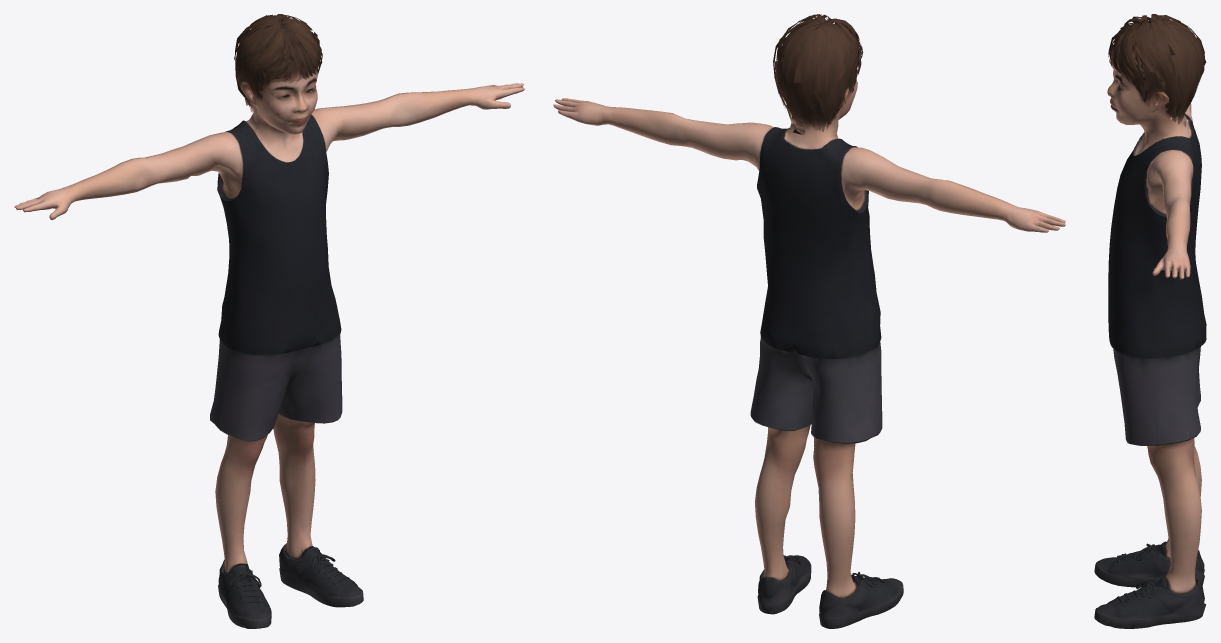
3 views of the same model, side by side, from view 1: azimuth 30°, elevation 25°; view 2: azimuth 150°, elevation 25°; view 3: azimuth 270°, elevation 25° (orthographic).
Parts seen in each view (by area): view 1: mesh_0; view 2: mesh_0; view 3: mesh_0.
Part boxes in pixels (x1,y1,x2,y2): mesh_0: (14,14,524,628); mesh_0: (553,14,1065,628); mesh_0: (1094,14,1206,628).
Size of the model in its own units: 867 by 950 by 166.
Materials: 1 (1 with a texture image).
